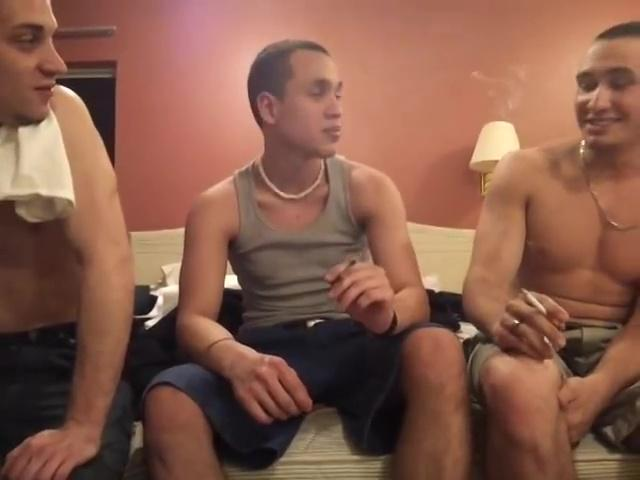cigarette: (329, 257, 360, 288), (522, 288, 552, 319)
